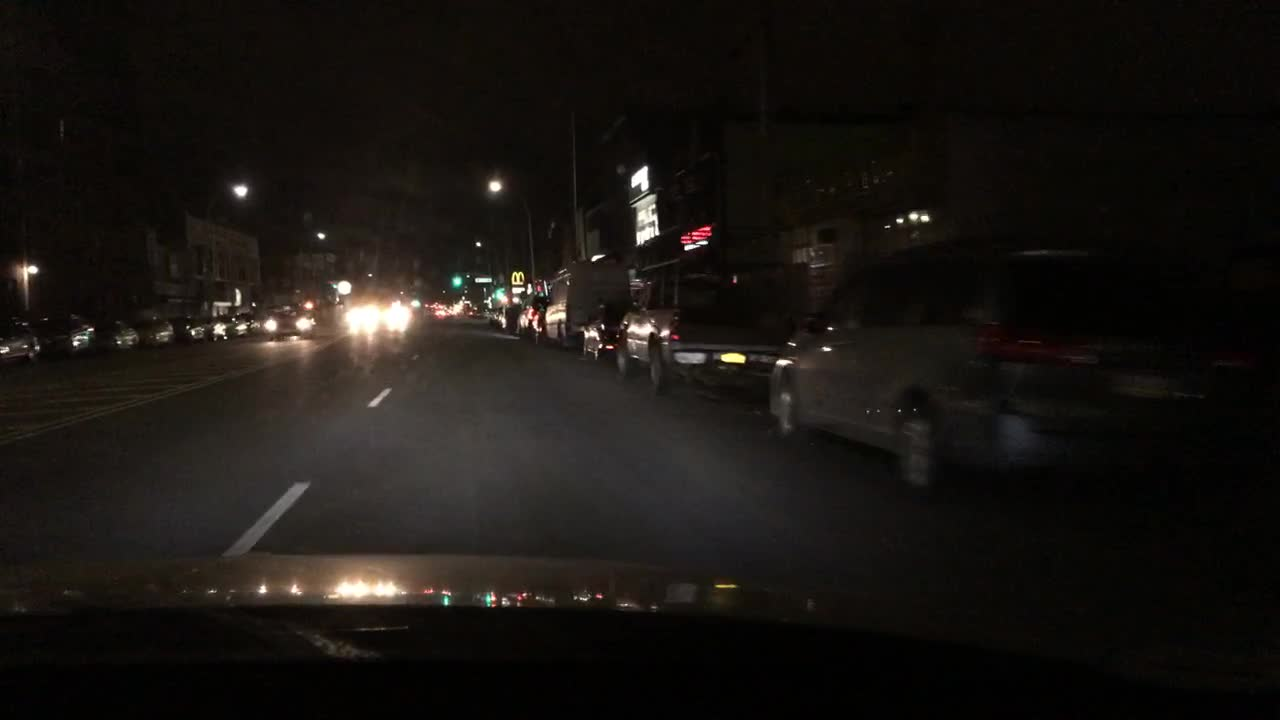car: (757, 229, 1278, 488), (613, 272, 799, 392), (574, 302, 628, 360), (337, 302, 406, 336), (35, 320, 95, 353), (260, 305, 317, 339), (0, 326, 38, 365), (92, 320, 137, 351), (134, 317, 177, 347), (517, 296, 549, 335), (496, 302, 526, 335), (225, 316, 254, 338), (198, 319, 228, 339), (176, 317, 203, 339), (486, 307, 516, 326), (429, 305, 451, 320), (465, 305, 481, 317)
traffic light: (451, 272, 460, 290)
traffic sign: (472, 275, 490, 284)
truck: (537, 260, 628, 344)
